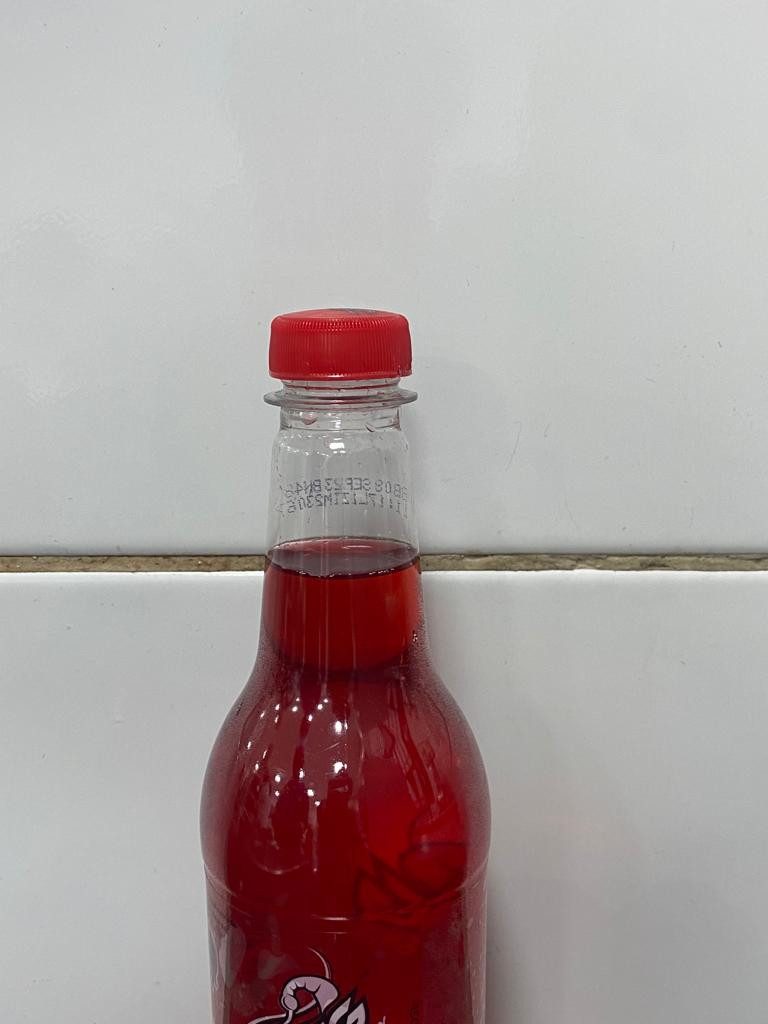Broken Cap: (189, 284, 490, 483)
